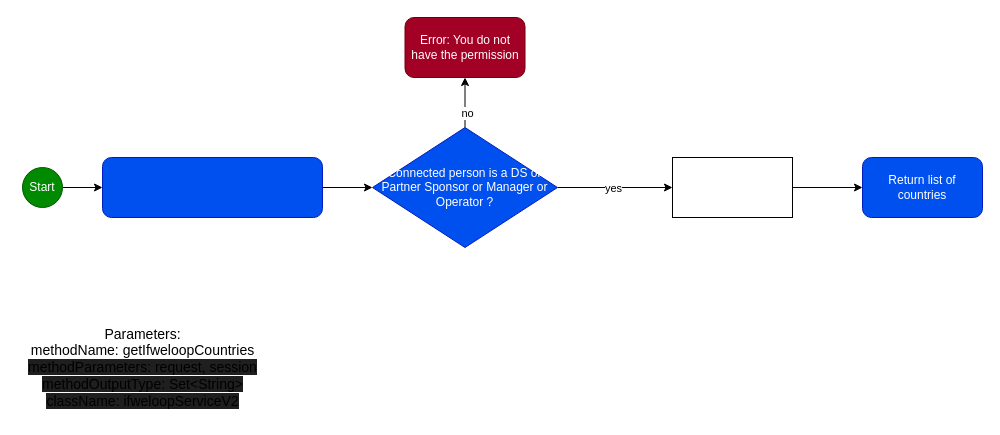
The diagram is 1000 pixels wide and 435 high, and some of its shapes have lost their labels. Each missing label, with the centre of its shape:
"API Get/api/v1/ifweloop/countries" goes at (212,187).
"Find all countries" goes at (732,187).
